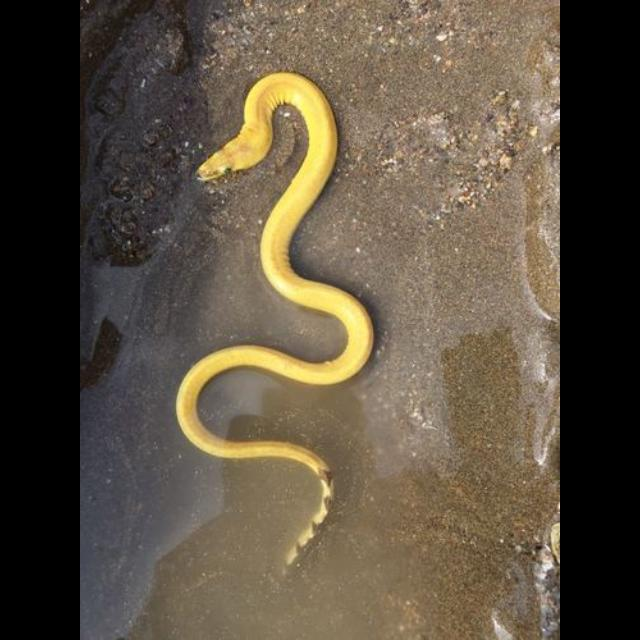snake: (180, 70, 382, 564)
